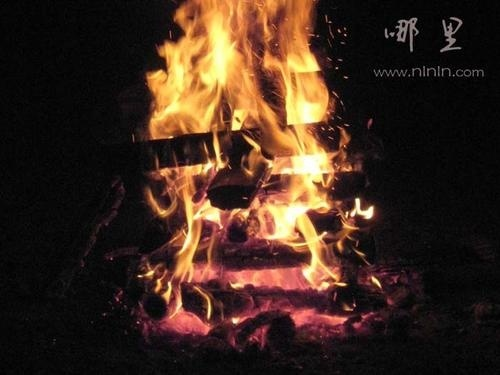fire: (139, 10, 383, 325)
